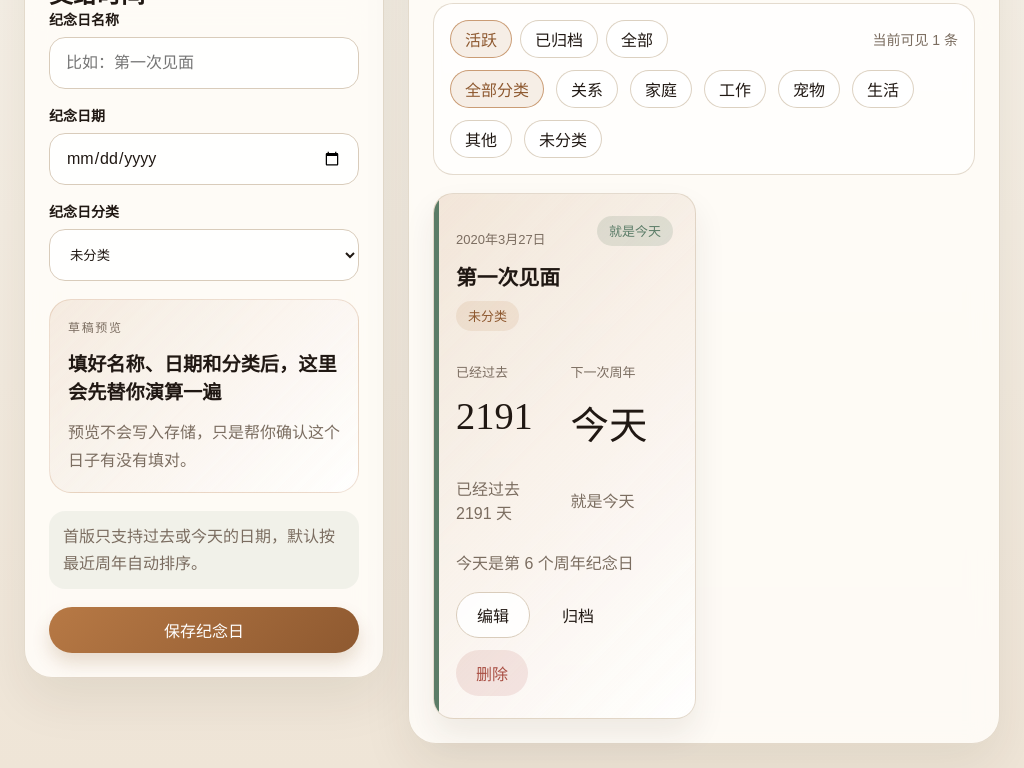
Scenario: AnniversaryList › 点击删除后出现确认框并可删除记录
(page scrolled)
Click the button "删除" at (492, 673), box [456,650,528,696]
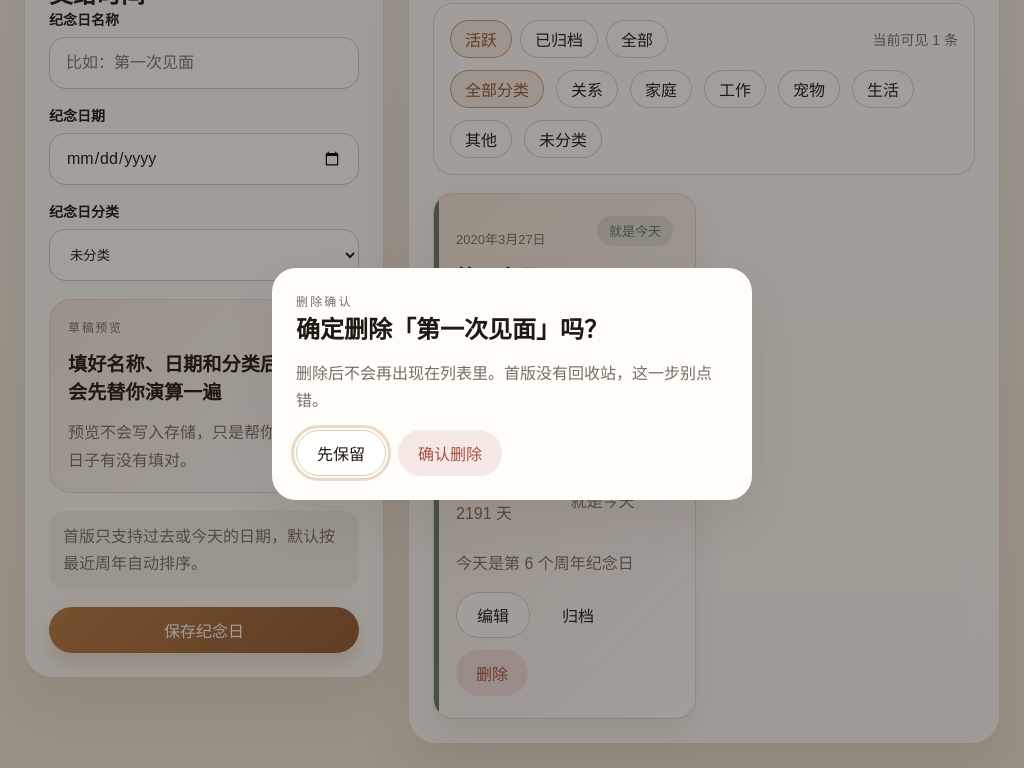
Result: the dialog is shown at [272,268,752,500]
Click the button "确认删除" at (450, 453), box [398,430,502,476]
(page scrolled)
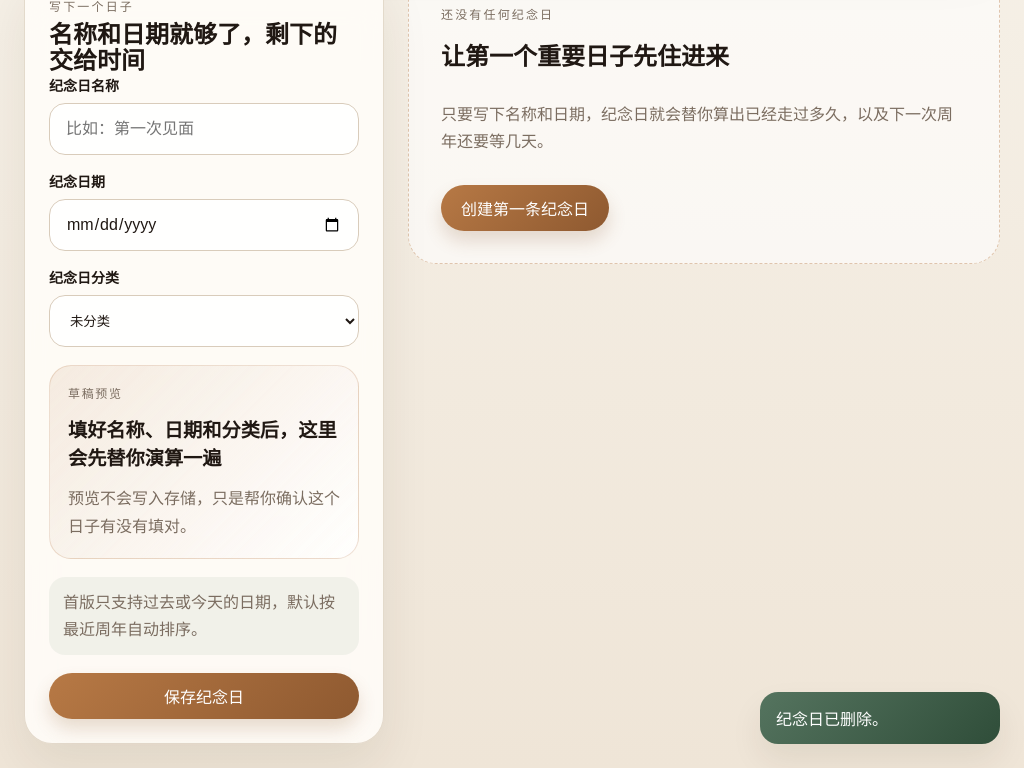
Result: the text "纪念日已删除。" is shown at [760,692,1000,744]
